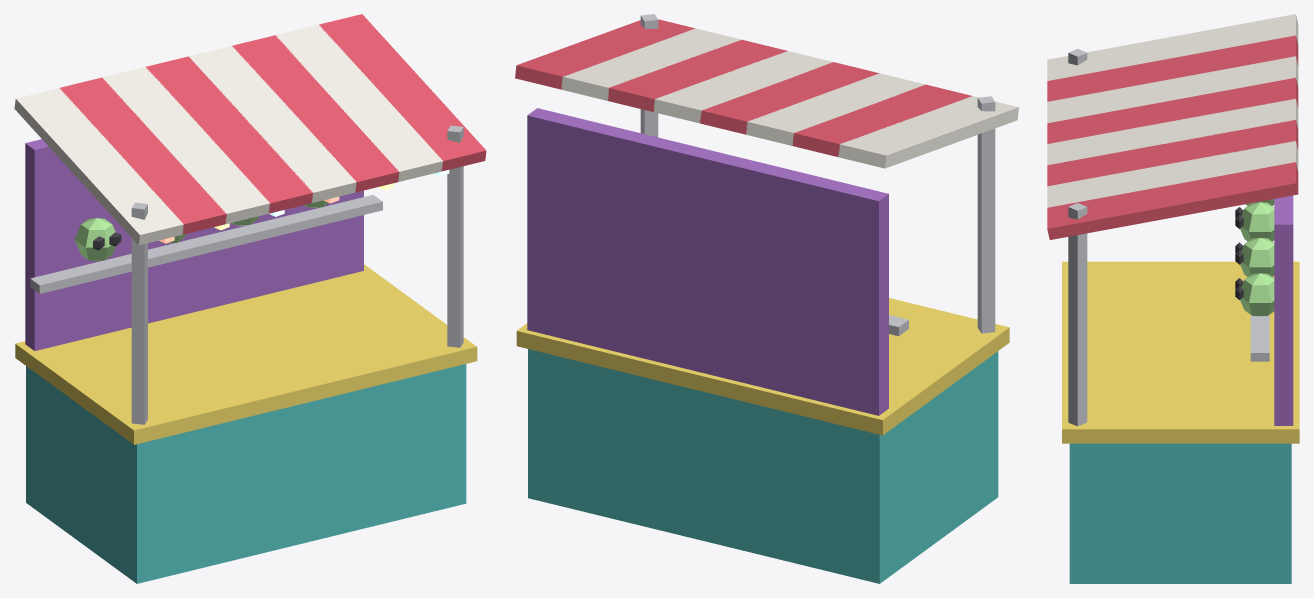
Rendered from arena_booth.glb.
3 renders of one model, left to right at view 1: azimuth 30°, elevation 25°; view 2: azimuth 150°, elevation 25°; view 3: azimuth 270°, elevation 25°, orthographic. The views are drawn at different scales.
Parts seen in each view (by area): view 1: arena_booth; view 2: arena_booth; view 3: arena_booth.
Part boxes in pixels (box(x1,y1,x2,y2)): arena_booth: box(14, 14, 486, 583); arena_booth: box(515, 14, 1018, 583); arena_booth: box(1047, 14, 1299, 583).
Bounding box in the file's own units: 2.53 × 2.82 × 1.59.
